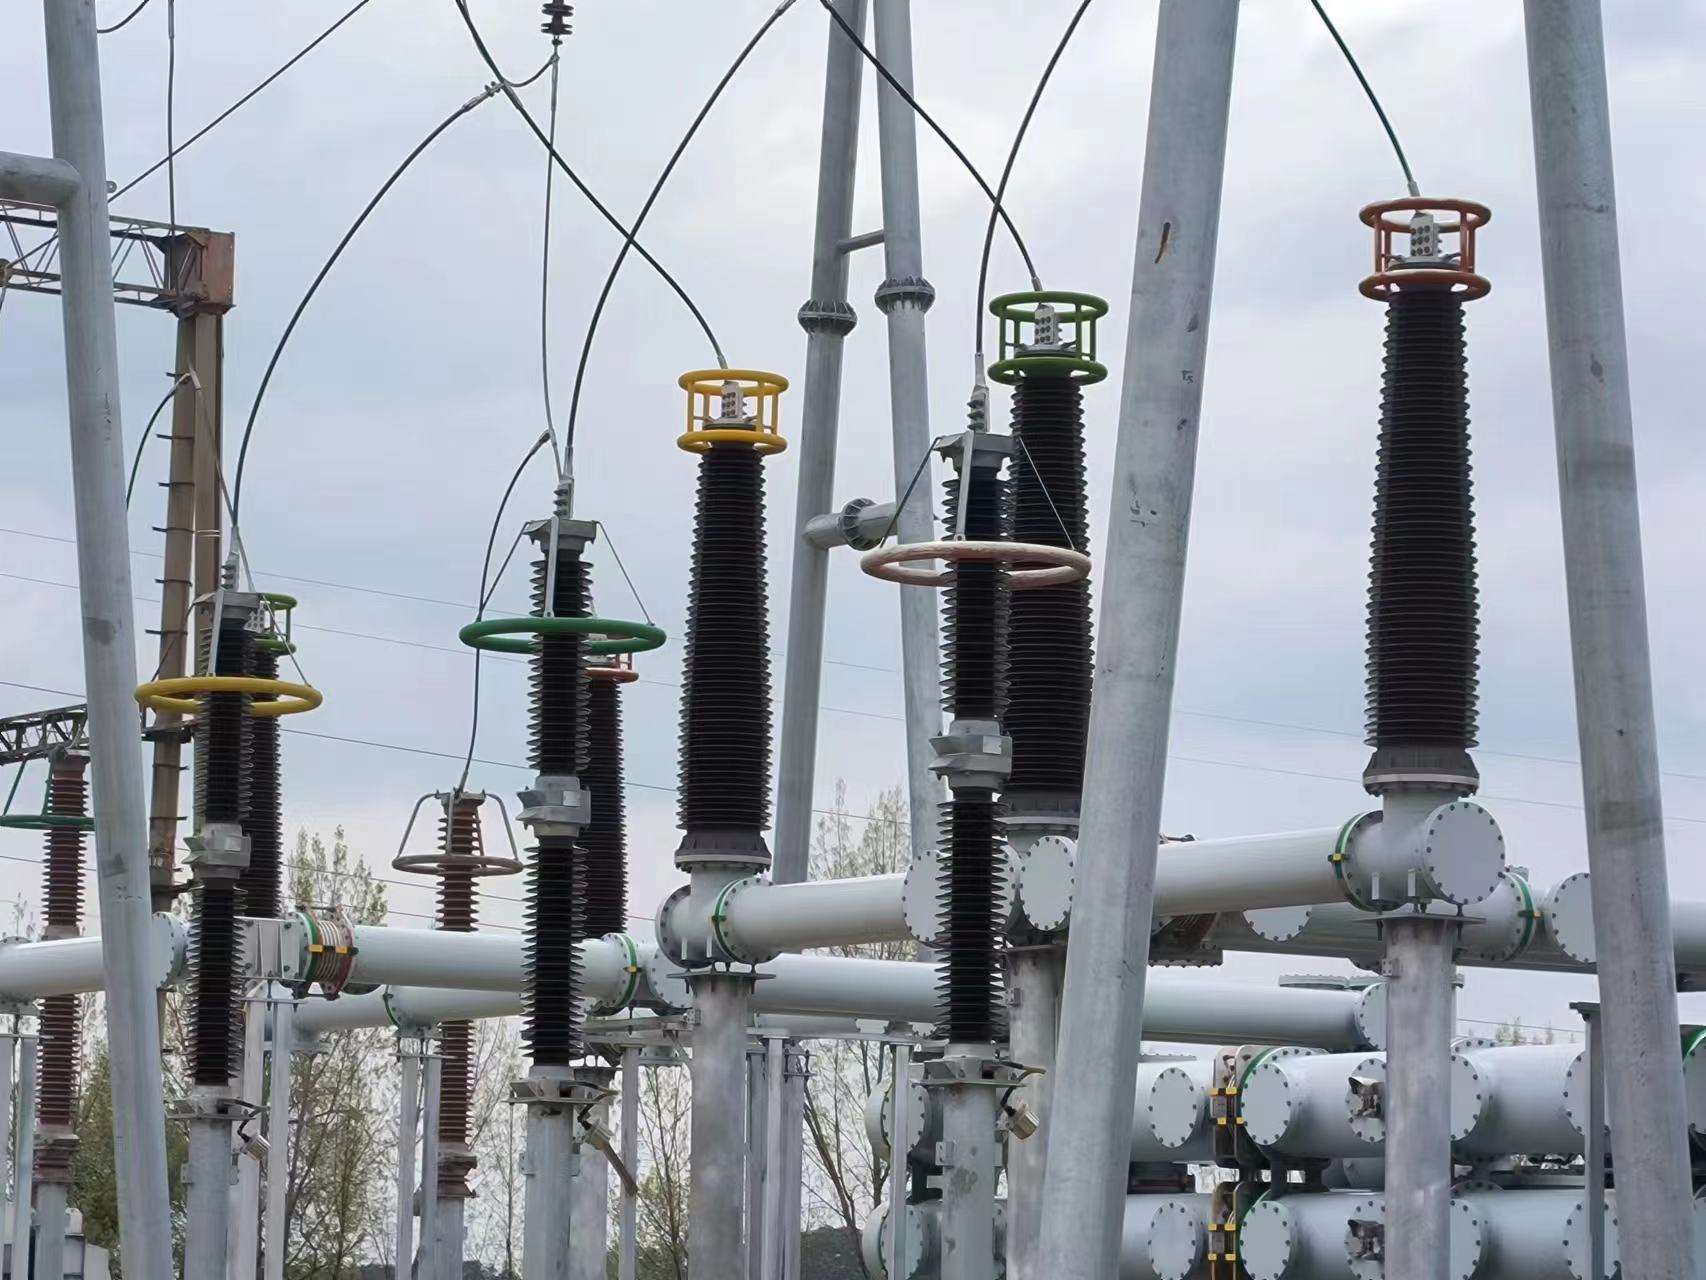Arrester: (863, 430, 1096, 1053), (454, 519, 669, 1064), (145, 602, 325, 1094)
Voltage transformer: (1355, 198, 1494, 756), (987, 281, 1109, 799), (671, 363, 789, 839)
